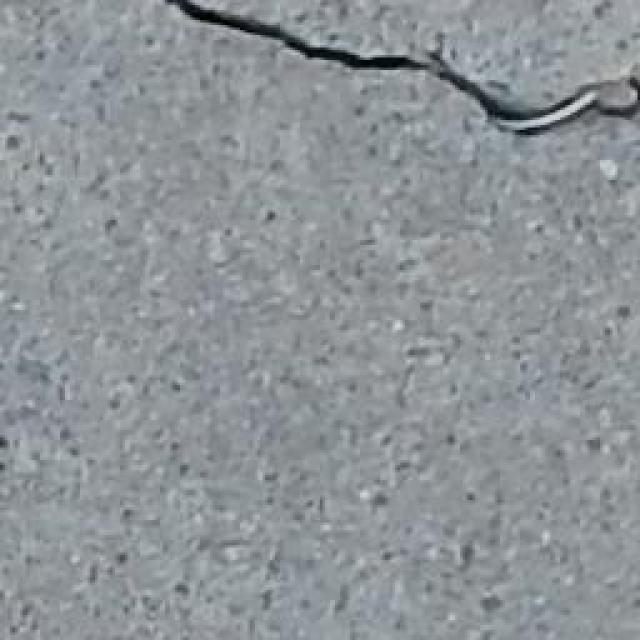concrete-crack: (170, 0, 640, 139)
